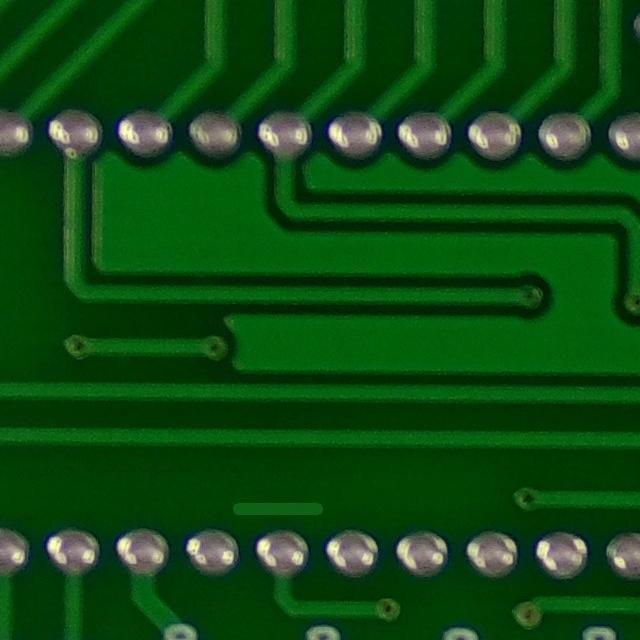spurious_copper: (214, 482, 337, 539)
